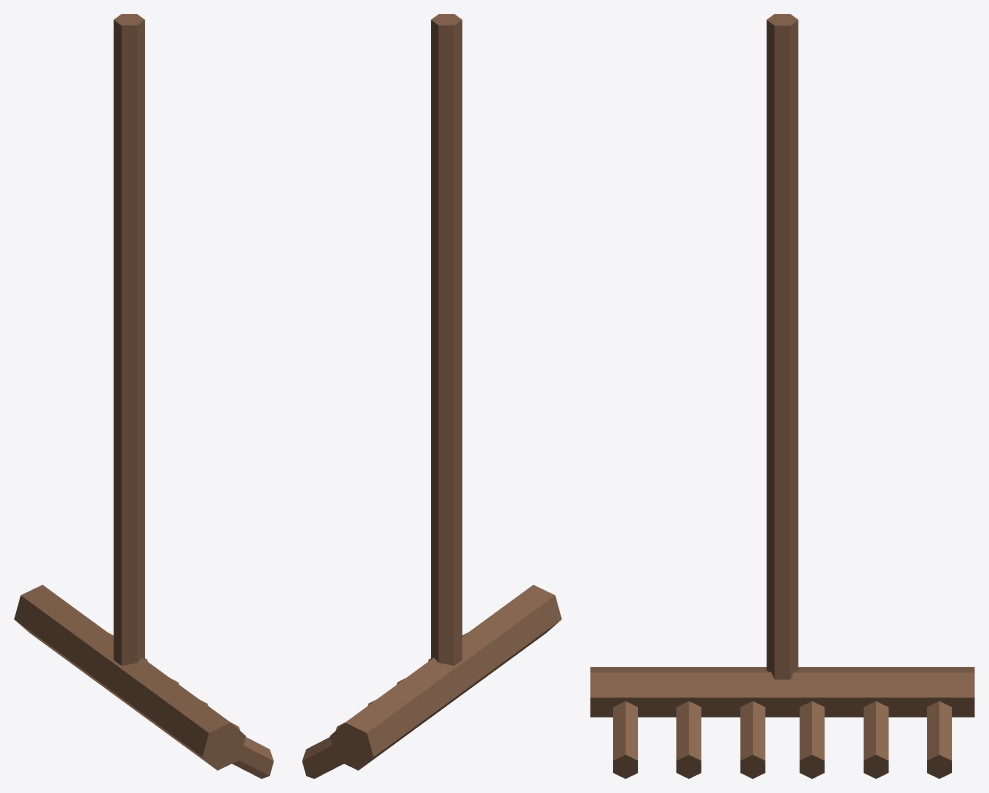
Rendered from Rake Asia.fbx.
The picture shows the model from 3 angles, left to right: view 1: azimuth 30°, elevation 25°; view 2: azimuth 150°, elevation 25°; view 3: azimuth 270°, elevation 25°; orthographic projection. The views are drawn at different scales.
Parts seen in each view (by area): view 1: Rake; view 2: Rake; view 3: Rake.
Boxes of the visible parts, left/top/right/bottom form: Rake: left=14, top=14, right=273, bottom=778; Rake: left=302, top=14, right=561, bottom=778; Rake: left=590, top=14, right=974, bottom=778.
Bounding box in the file's own units: 0.1403 × 1.13 × 0.5397.
